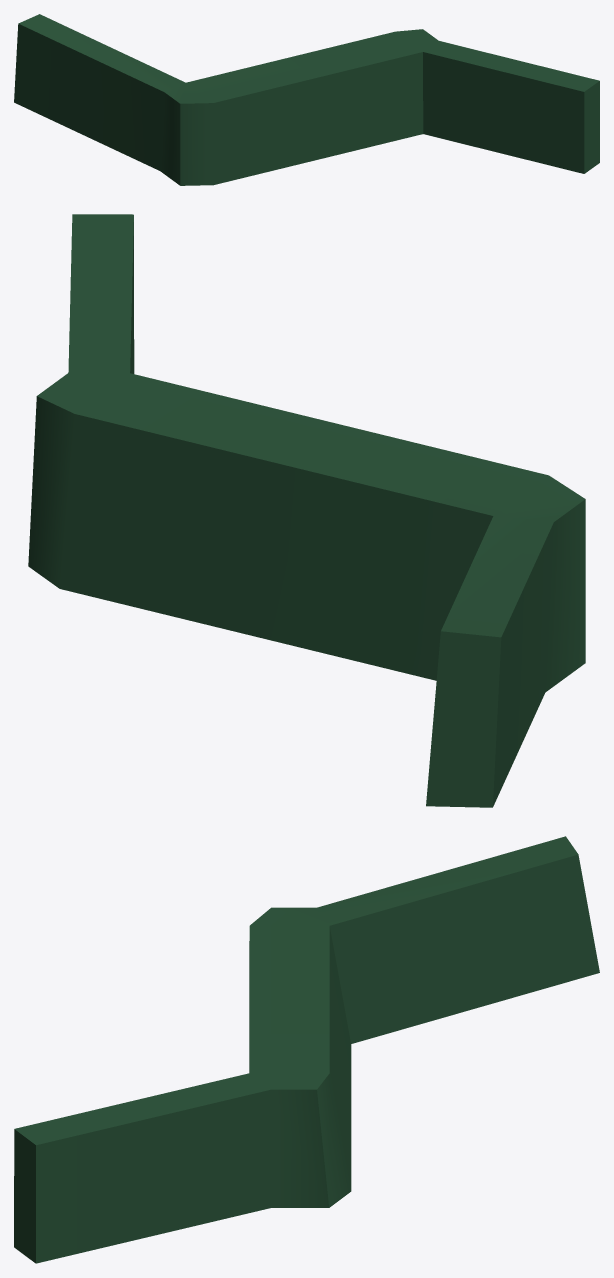
Rendered from wall4.fbx.
3 renders of one model, top to bottom at view 1: azimuth 30°, elevation 25°; view 2: azimuth 150°, elevation 25°; view 3: azimuth 270°, elevation 25°, orthographic. The views are drawn at different scales.
Visible parts, largest first — view 1: wall4; view 2: wall4; view 3: wall4.
Part boxes in pixels (<box>): wall4: <box>14,14,599,185</box>; wall4: <box>28,214,585,807</box>; wall4: <box>14,836,599,1263</box>.
Size of the model in its own units: 394 by 96.63 by 348.
